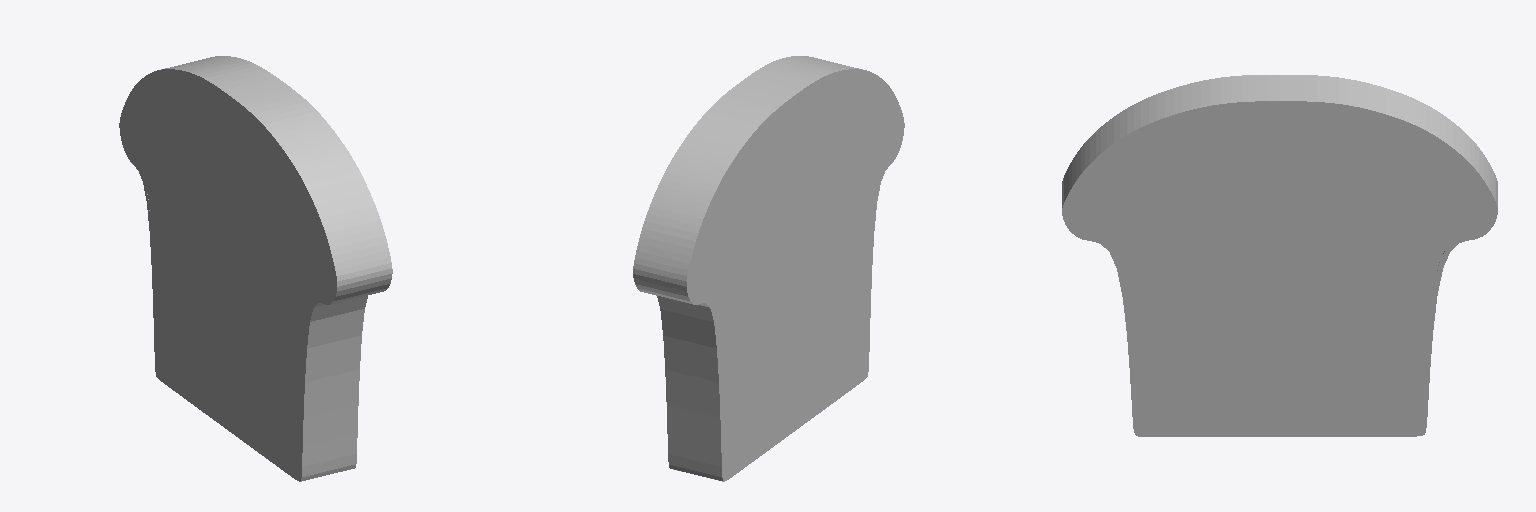
Rendered from slice.obj.
The picture shows the model from 3 angles: view 1: azimuth 30°, elevation 25°; view 2: azimuth 150°, elevation 25°; view 3: azimuth 270°, elevation 25°; orthographic projection.
Parts seen in each view (by area): view 1: Cube.004_Cube.005, Cube_Cube.001, Cube.003_Cube.004; view 2: Cube.004_Cube.005, Cube_Cube.001, Cube.003_Cube.004; view 3: Cube.002_Cube.003, Cube_Cube.001, Cube.001_Cube.002.
Boxes of the visible parts, x1=… form: Cube.004_Cube.005: x1=121, y1=73, x2=334, y2=477; Cube_Cube.001: x1=147, y1=56, x2=392, y2=481; Cube.003_Cube.004: x1=119, y1=69, x2=336, y2=481; Cube.004_Cube.005: x1=689, y1=73, x2=902, y2=477; Cube_Cube.001: x1=633, y1=56, x2=876, y2=481; Cube.003_Cube.004: x1=687, y1=69, x2=904, y2=481; Cube.002_Cube.003: x1=1067, y1=105, x2=1492, y2=432; Cube_Cube.001: x1=1062, y1=75, x2=1497, y2=271; Cube.001_Cube.002: x1=1062, y1=101, x2=1497, y2=436.
Size of the model in its own units: 0.0327 by 0.1898 by 0.2232.